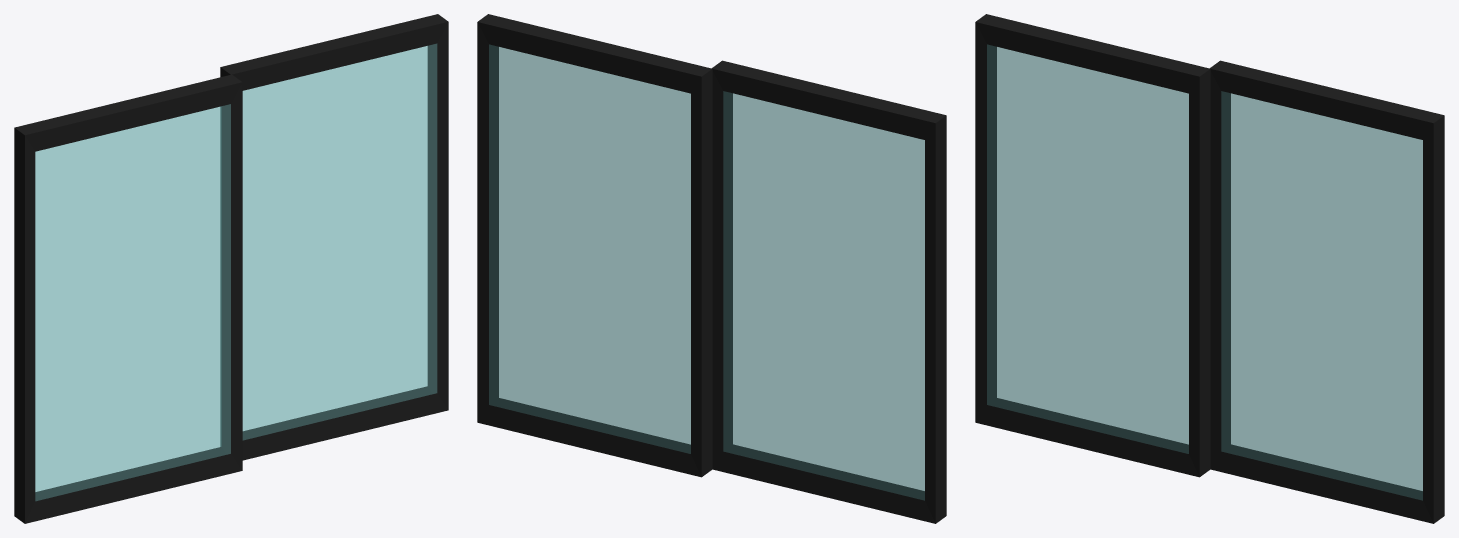
The model's file is slidingDoors.fbx.
The picture shows the model from 3 angles, left to right: view 1: azimuth 30°, elevation 25°; view 2: azimuth 150°, elevation 25°; view 3: azimuth 330°, elevation 25°; orthographic projection. The views are drawn at different scales.
Parts seen in each view (by area): view 1: pCube239, pCube238; view 2: pCube238, pCube239; view 3: pCube239, pCube238.
Part boxes in pixels (x1,y1,x2,y2): pCube239: (14,74,242,523); pCube238: (220,14,448,460); pCube238: (477,14,712,477); pCube239: (711,60,946,523); pCube239: (975,14,1210,477); pCube238: (1209,60,1444,523).
Size of the model in its own units: 5.4 by 4.62 by 0.4531.
